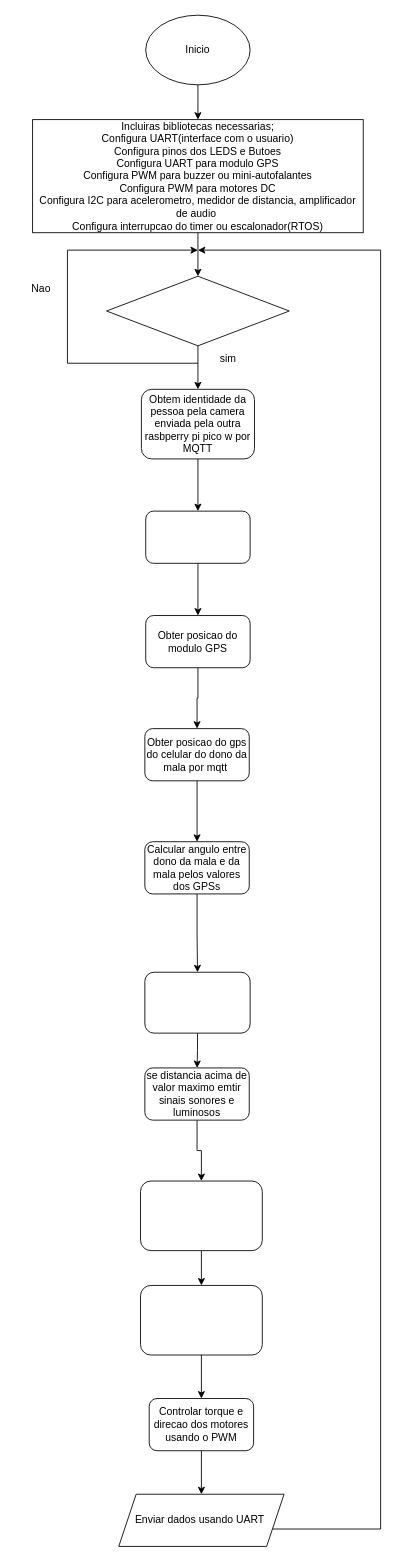
Some shapes in this 403 by 1562 pixel diagram are drawn without their labels. The box of each missing label's shape, as (x1, y1, x2, y2) in pixels:
Interrupcao do Timer ou escalonador(RTOS): (106, 275, 289, 346)
Obtem medidas do acelerometro/giroscopio: (140, 1180, 262, 1251)
Obter distancia dos sensores a laser e ultrasonicos: (145, 510, 250, 563)
obter sinal de PWM apartir do controle PID: (140, 1285, 262, 1355)
Usando todas as informacoes ate o momento obter o vetor de movimento da mala: (144, 971, 250, 1033)
